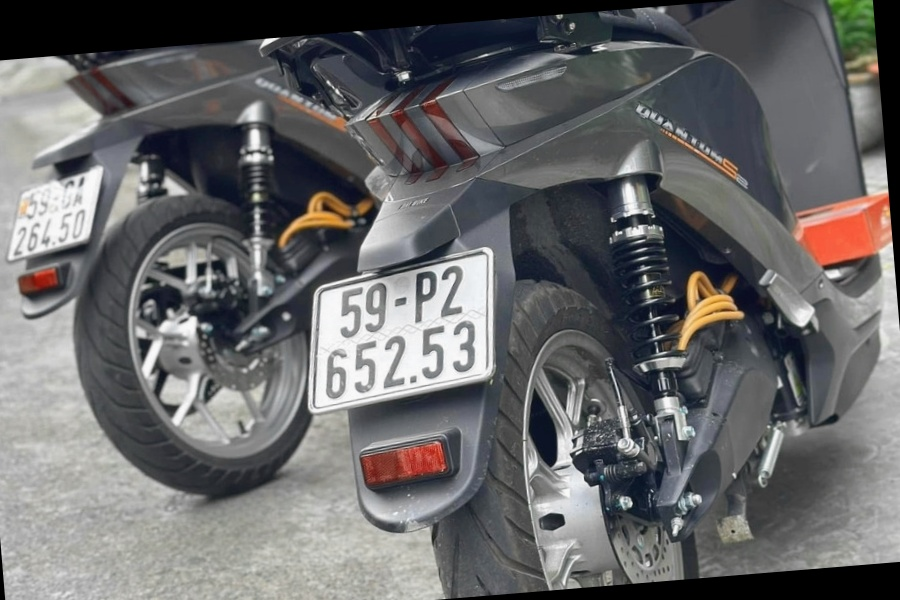Bien-so: (298, 245, 505, 408), (0, 167, 110, 265)
